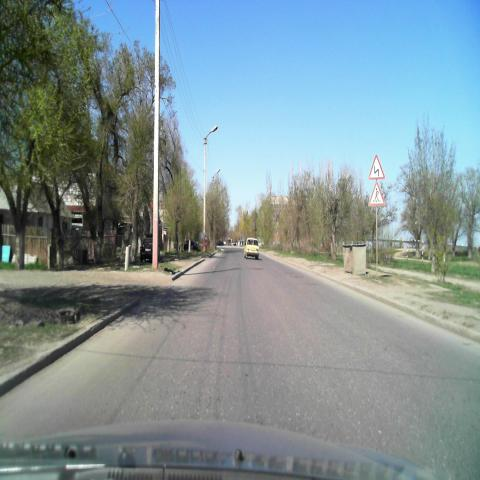1_12_2: (368, 154, 386, 182)
